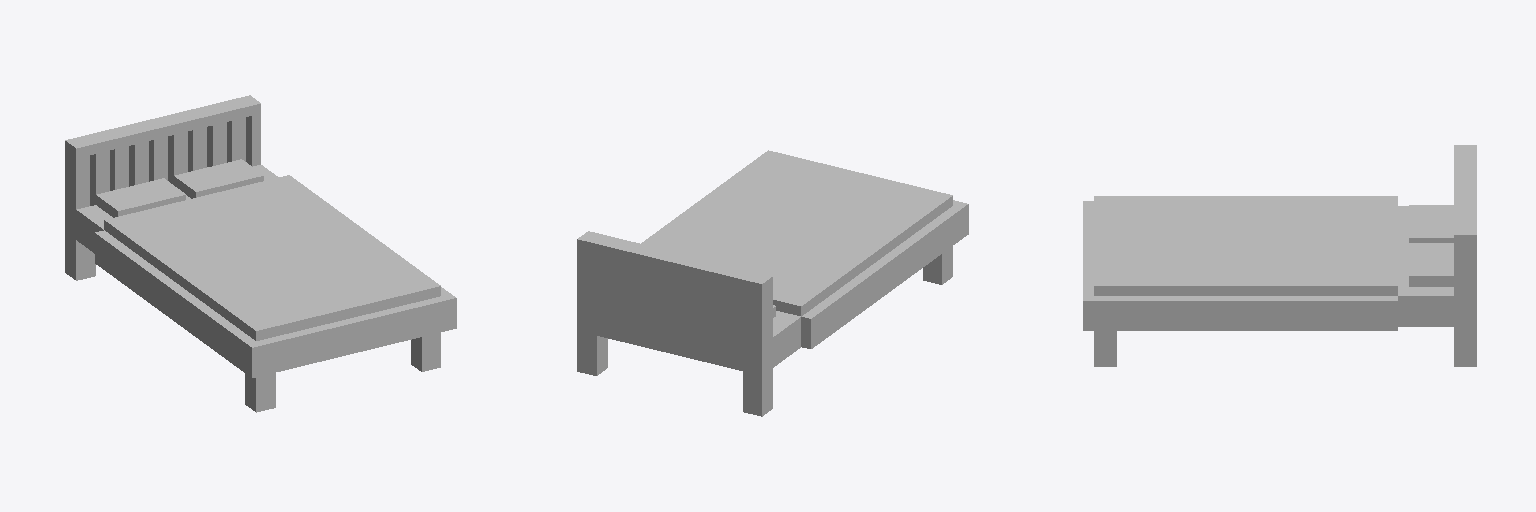
Rendered from Bed.obj.
The picture shows the model from 3 angles: view 1: azimuth 30°, elevation 25°; view 2: azimuth 150°, elevation 25°; view 3: azimuth 270°, elevation 25°; orthographic projection.
Visible parts, largest first — view 1: object 1; view 2: object 1; view 3: object 1.
Part boxes in pixels (x1,y1,x2,y2): object 1: (65, 95, 456, 412); object 1: (577, 150, 968, 416); object 1: (1083, 145, 1476, 366).
Bounding box in the file's own units: 2.1 × 1.3 × 3.5.